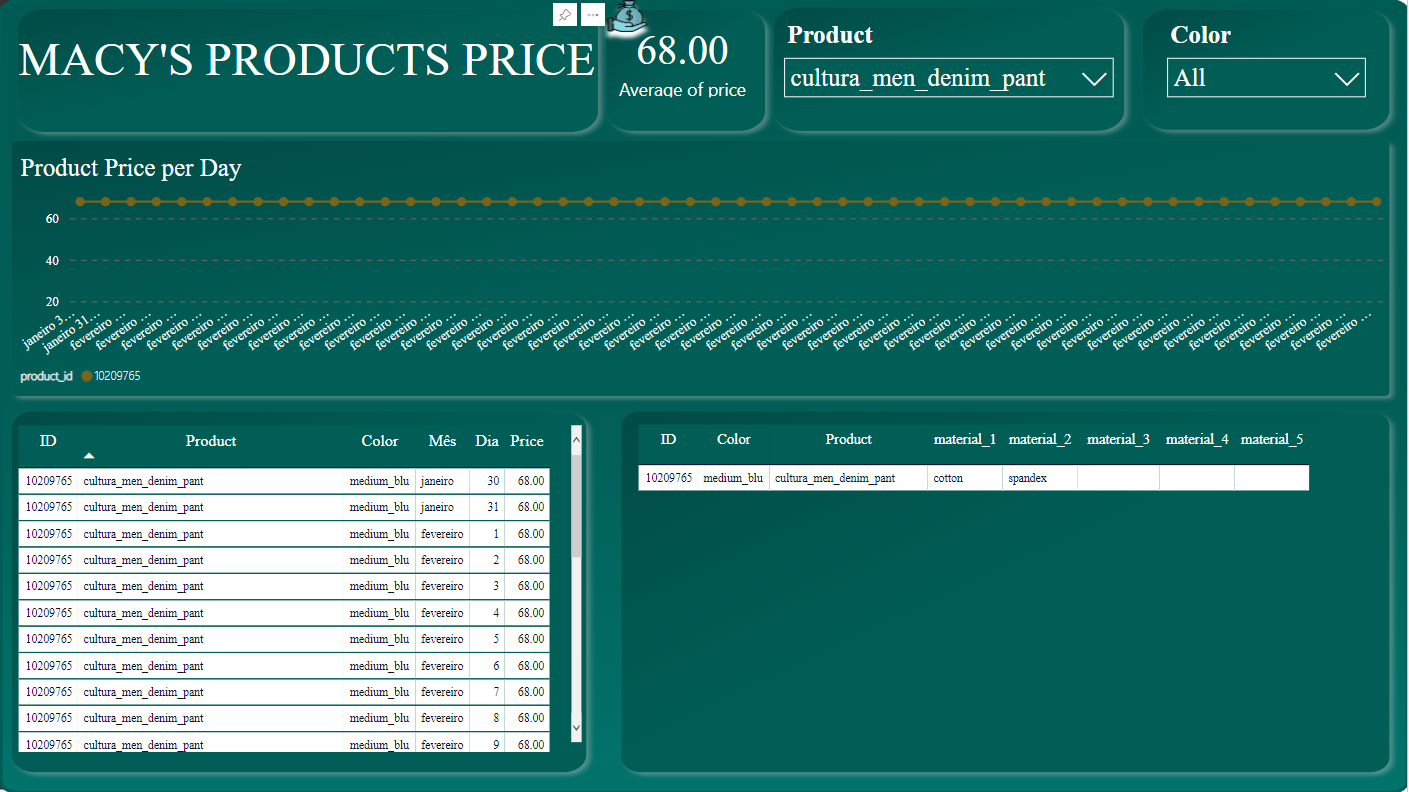

Layout of this report page (visuals, bound fields, positions):
{"tool":"powerbi","page":{"name":"macy_dashboard","canvas":[1280,720],"ordinal":1},"visuals":[{"type":"tableEx","fields":{"Values":["vitrine_marcy.product_id","vitrine_marcy.product_name","vitrine_marcy.product_type","vitrine_marcy.scrap_datetime.Variation.Hierarquia de datas.Mês","vitrine_marcy.scrap_datetime.Variation.Hierarquia de datas.Dia","vitrine_marcy.price"]},"box":[11.4,381.8,522.7,306.8],"z":0},{"type":"lineChart","title":"Product Price per Day","fields":{"Y":["vitrine_marcy.price"],"Series":["vitrine_marcy.product_id"],"Category":["vitrine_marcy.scrap_datetime.Variation.Hierarquia de datas.Mês","vitrine_marcy.scrap_datetime.Variation.Hierarquia de datas.Dia","vitrine_marcy.time"]},"box":[13.7,140.1,1253.2,219.9],"z":1000},{"type":"slicer","fields":{"Values":["vitrine_marcy.product_name"]},"box":[703.4,14.9,319.5,87.4],"z":2000},{"type":"tableEx","fields":{"Values":["vitrine_marcy.product_id","vitrine_marcy.color_name","vitrine_marcy.product_name","vitrine_marcy.material_1","vitrine_marcy.material_2","vitrine_marcy.material_3","vitrine_marcy.material_4","vitrine_marcy.material_5"]},"box":[574.7,381.6,692,306.9],"z":3000},{"type":"slicer","fields":{"Values":["vitrine_marcy.color_name"]},"box":[982.9,174.7,201.4,86.7],"z":4000},{"type":"textbox","box":[11.5,24.1,540.2,78.2],"z":5000},{"type":"card","fields":{"Values":["vitrine_marcy.price"]},"box":[551.7,14.9,139.1,79.3],"z":6000},{"type":"slicer","fields":{"Values":["vitrine_marcy.scrap_datetime"]},"box":[1051.8,17.8,206.5,99.4],"z":6001}]}

Visuals, with their boxes in screenshot pixels (x1, y1, x2, y2), scaled from the page's 1280x720 canvas onto the 1409x792 screenshot:
tableEx - vitrine_marcy.product_id x vitrine_marcy.product_name: bbox(13, 420, 588, 757)
"Product Price per Day" lineChart: bbox(15, 154, 1395, 396)
slicer - vitrine_marcy.product_name: bbox(774, 16, 1126, 113)
tableEx - vitrine_marcy.product_id x vitrine_marcy.color_name: bbox(633, 420, 1394, 757)
slicer - vitrine_marcy.color_name: bbox(1082, 192, 1304, 288)
textbox: bbox(13, 27, 607, 113)
card - vitrine_marcy.price: bbox(607, 16, 760, 104)
slicer - vitrine_marcy.scrap_datetime: bbox(1158, 20, 1385, 129)
